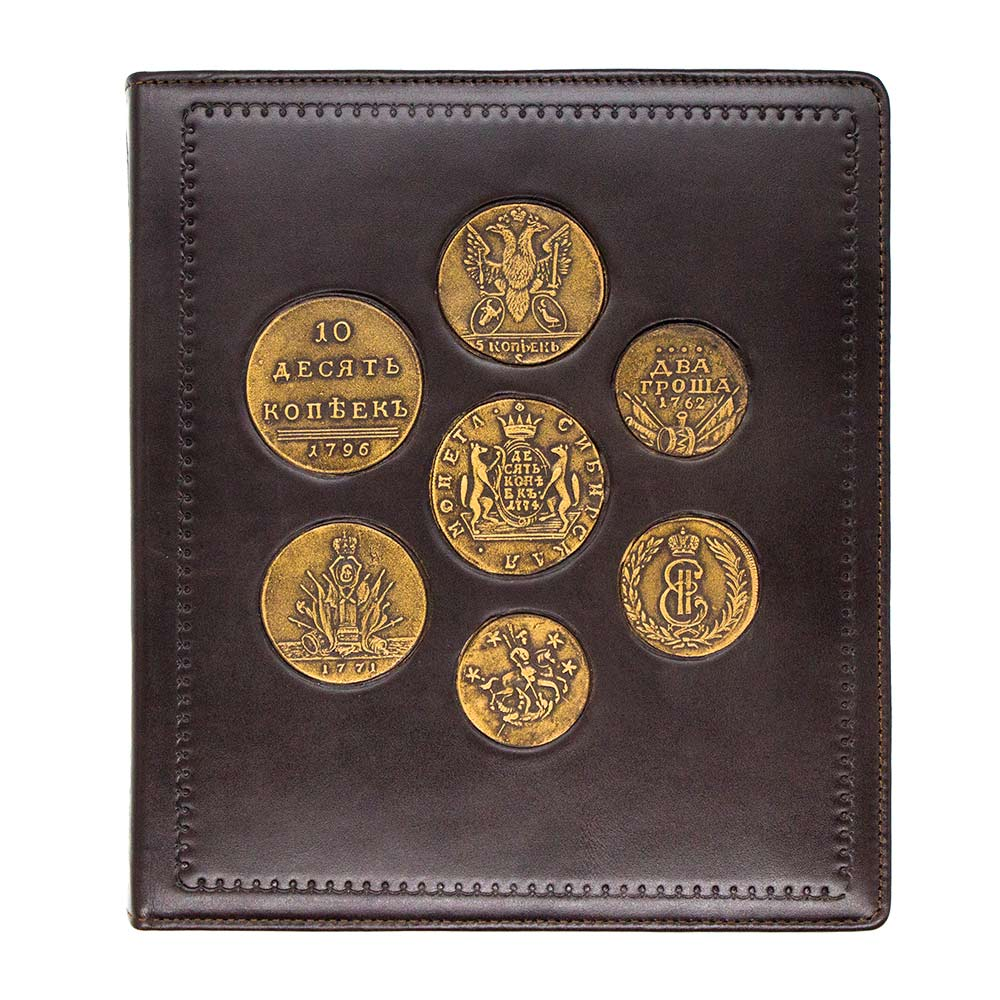coin: (243, 292, 424, 477), (428, 393, 604, 579), (438, 199, 605, 368), (258, 522, 428, 684), (619, 515, 758, 659), (617, 318, 754, 458), (457, 612, 591, 748)
